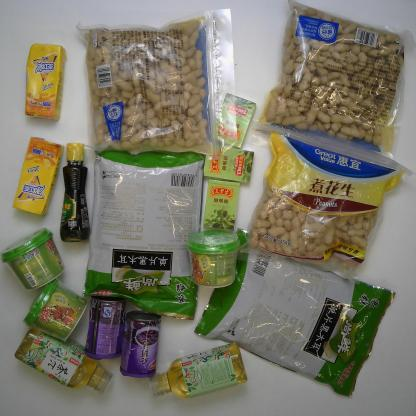Candy: (207, 80, 259, 154), (196, 139, 260, 184), (198, 174, 244, 234)
Canned Food: (115, 298, 166, 387), (79, 283, 128, 370)
Dried Food: (180, 222, 414, 401), (65, 8, 263, 158), (240, 115, 414, 274), (248, 0, 412, 149), (78, 137, 208, 322)
Drink: (134, 338, 266, 406), (8, 326, 121, 405), (7, 123, 70, 227), (18, 28, 68, 127)
Instant Drink: (13, 269, 90, 344), (183, 219, 247, 298), (4, 230, 72, 294)
Seasoner: (52, 136, 101, 253)
